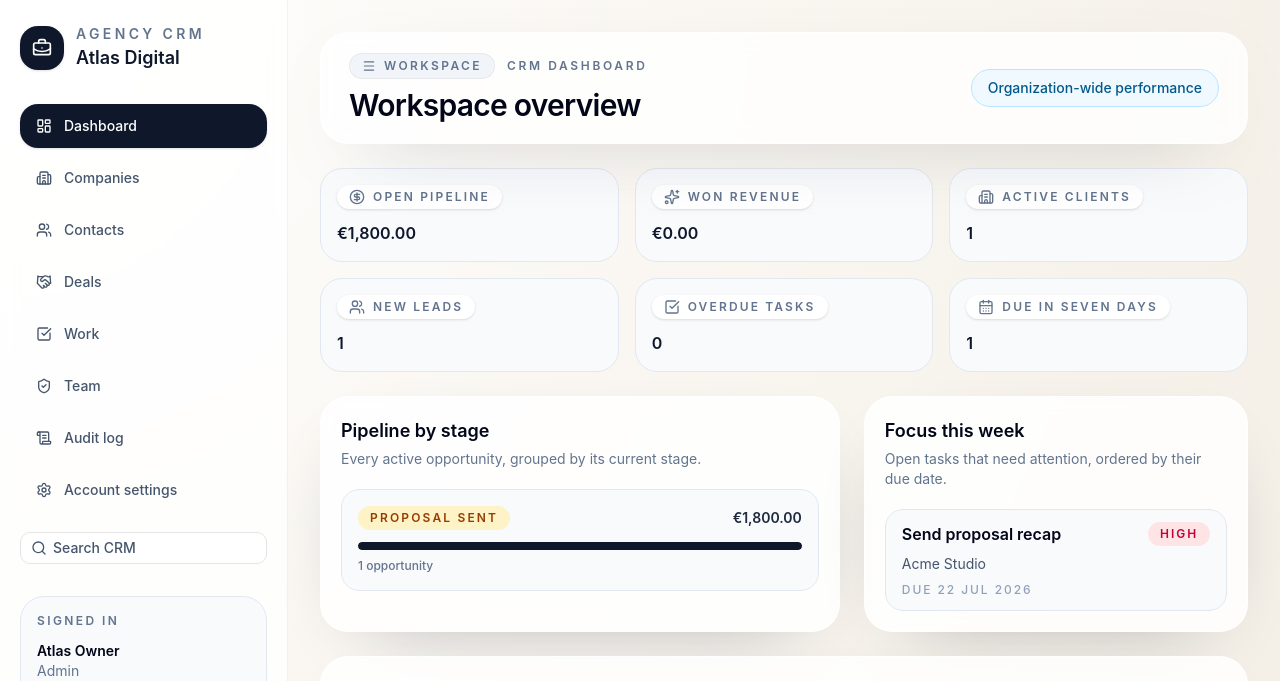
Test case: agency CRM authentication › searches the CRM and links to a matching record
This screenshot has width=1280, height=681.
Check: the heading "Workspace overview" is shown, box [349,87,648,123]
Click the button "Search CRM" at (144, 548), box [20,532,267,564]
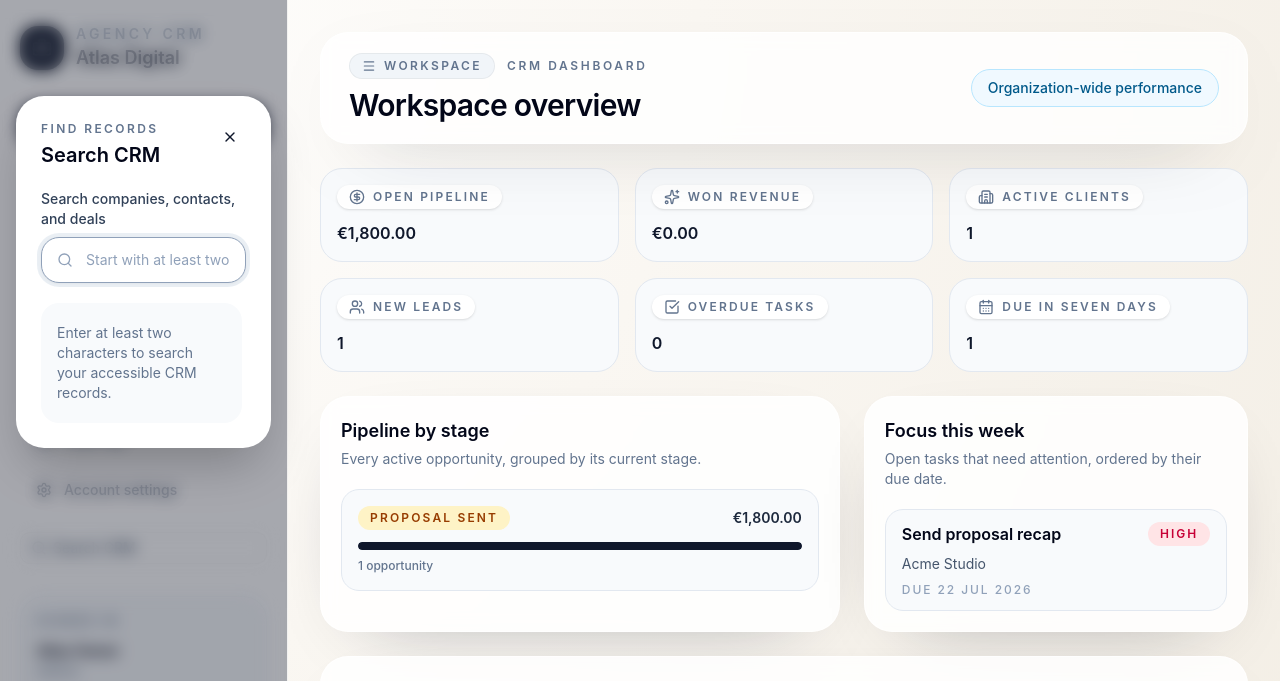
Type "Acme" into the field labelled "Search companies, contacts, and deals" at (144, 260), box [41,237,246,283]
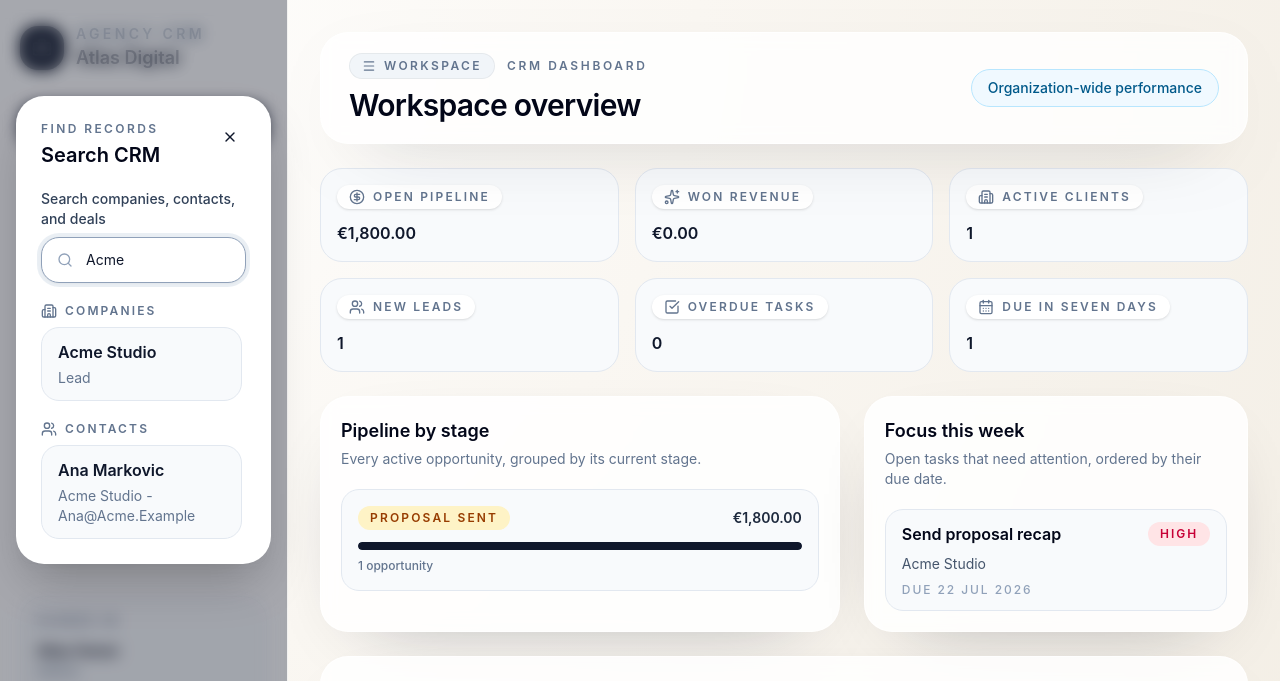
Check: the dialog shows "Acme Studio", box [41,327,242,401]
